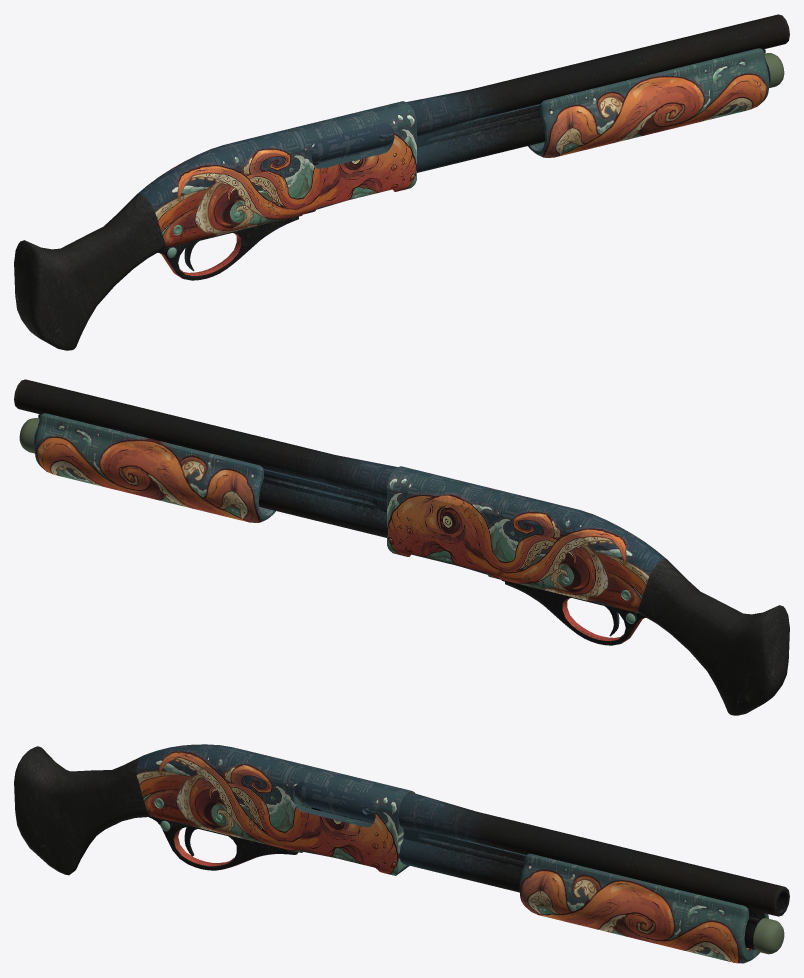
The model's file is w_sawnoffshotgun_octopump.glb.
The picture shows the model from 3 angles, top to bottom: view 1: azimuth 30°, elevation 25°; view 2: azimuth 150°, elevation 25°; view 3: azimuth 330°, elevation 25°; orthographic projection.
Parts seen in each view (by area): view 1: Gun_Root; view 2: Gun_Root; view 3: Gun_Root.
Boxes of the visible parts, x1,y1,x2,y2 form: Gun_Root: (14, 14, 789, 350); Gun_Root: (14, 379, 789, 715); Gun_Root: (14, 744, 789, 963).
Bounding box in the file's own units: 0.6023 × 0.1235 × 0.041.
Materials: 1 (1 with a texture image).
